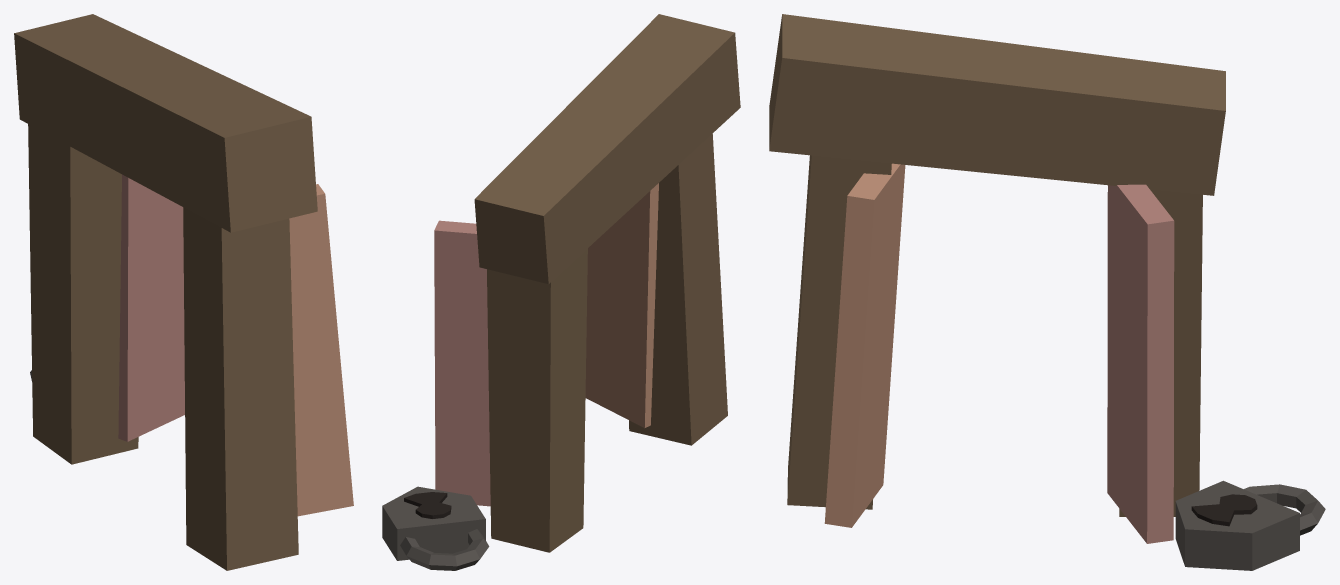
File: OpenHatfieldGate.fbx
3 views of the same model, side by side, from view 1: azimuth 30°, elevation 25°; view 2: azimuth 150°, elevation 25°; view 3: azimuth 270°, elevation 25° (orthographic). The views are drawn at different scales.
Visible parts, largest first — view 1: Cube.002, Cube.001, Cube; view 2: Cube.002, Cube.001, Cube, Cube.003; view 3: Cube.002, Cube.001, Cube, Cube.003.
Part boxes in pixels (left/top/right/bottom): Cube.002: left=14, top=14, right=317, bottom=570; Cube.001: left=118, top=174, right=184, bottom=441; Cube: left=289, top=184, right=353, bottom=516; Cube.002: left=474, top=14, right=740, bottom=552; Cube.001: left=434, top=220, right=490, bottom=506; Cube: left=585, top=183, right=658, bottom=427; Cube.003: left=382, top=486, right=489, bottom=570; Cube.002: left=769, top=14, right=1225, bottom=516; Cube.001: left=1107, top=184, right=1174, bottom=543; Cube: left=824, top=163, right=905, bottom=527; Cube.003: left=1175, top=480, right=1325, bottom=570.
Bounding box in the file's own units: 166 × 409 × 440.
